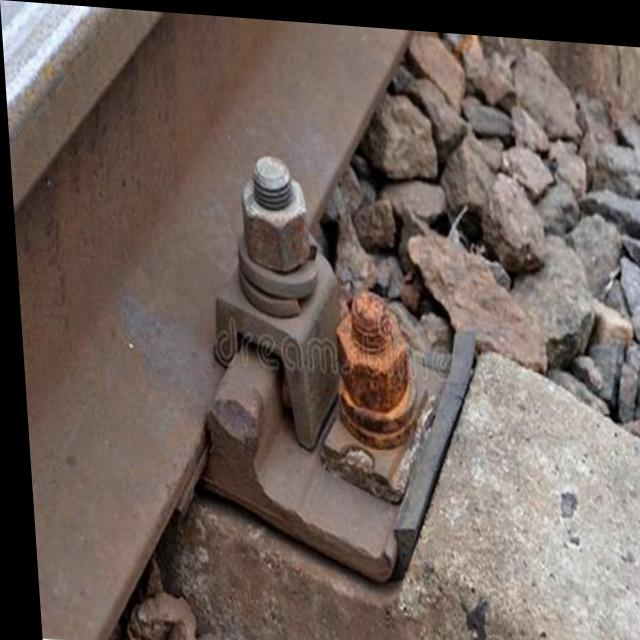Regular bolt: (331, 286, 410, 421), (235, 155, 312, 268)
